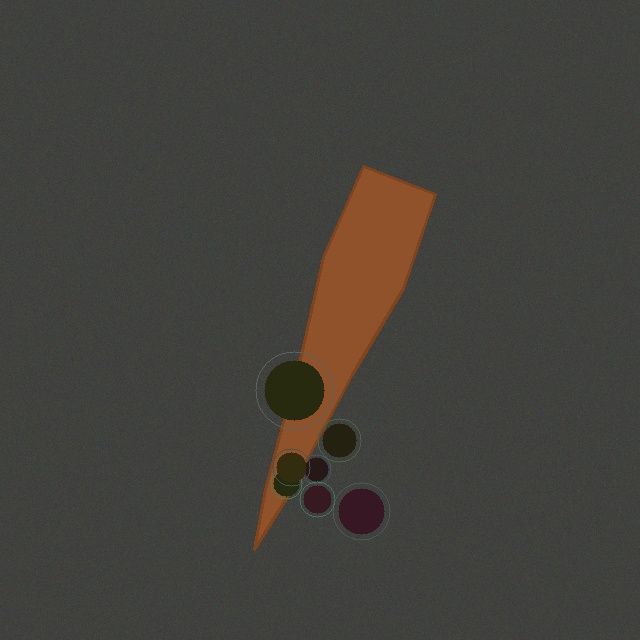Rotten_Carrot: (246, 158, 443, 557)
